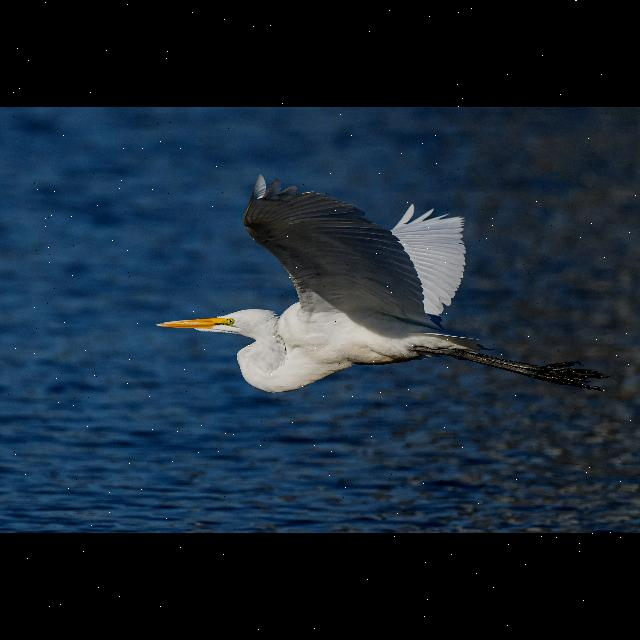egret: (151, 186, 607, 404)
